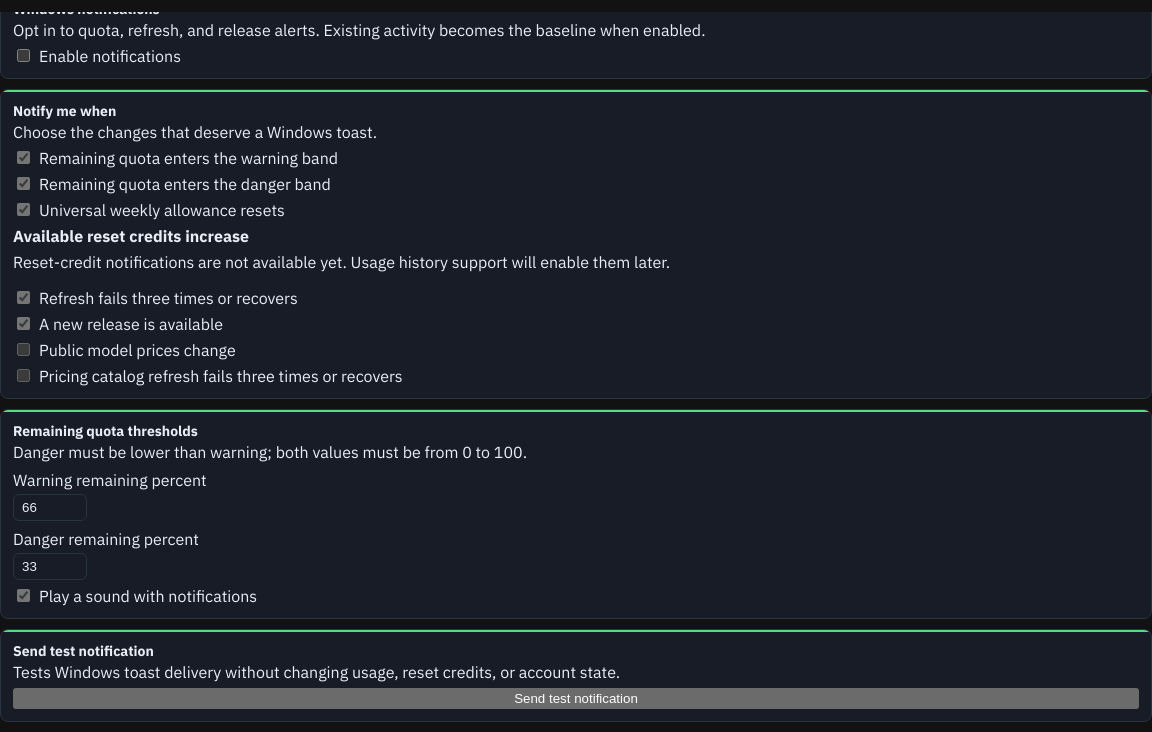
it: NotificationsTab › keeps the test action disabled while a disabled-code refresh is pending
(page scrolled)
Click the button "Send test notification": (576, 698) [13,688,1139,709]
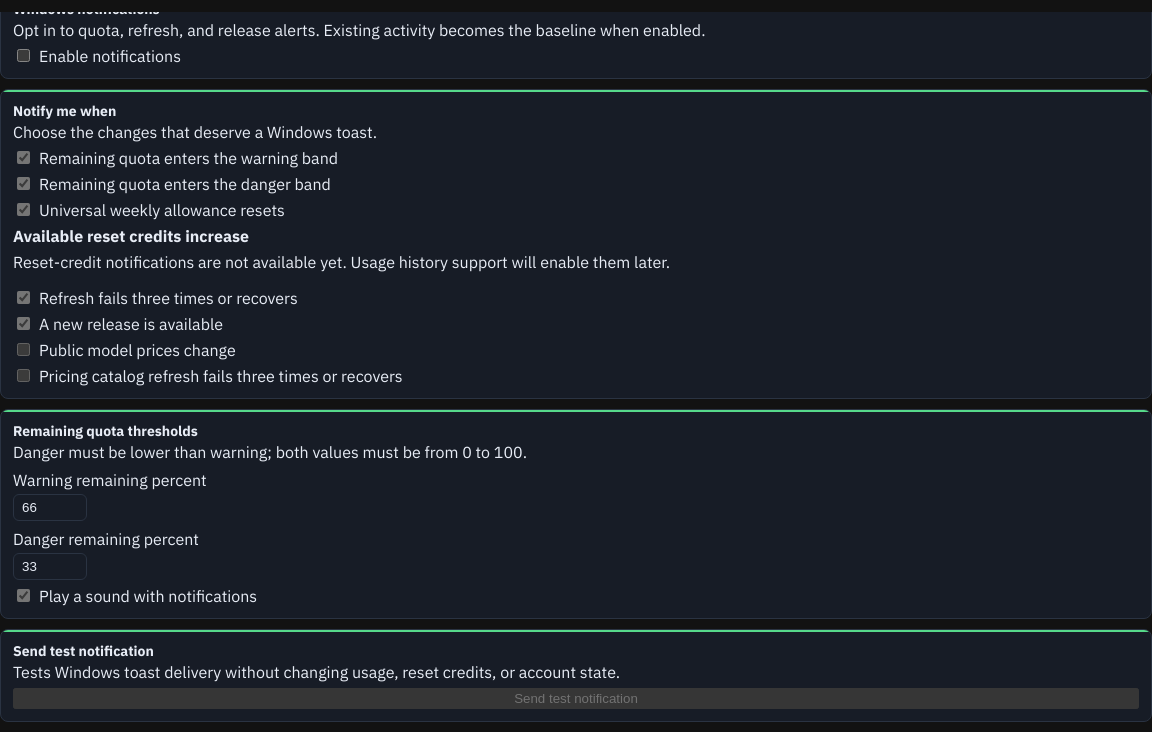
Check: the button "Send test notification" is disabled, box [13,688,1139,709]
